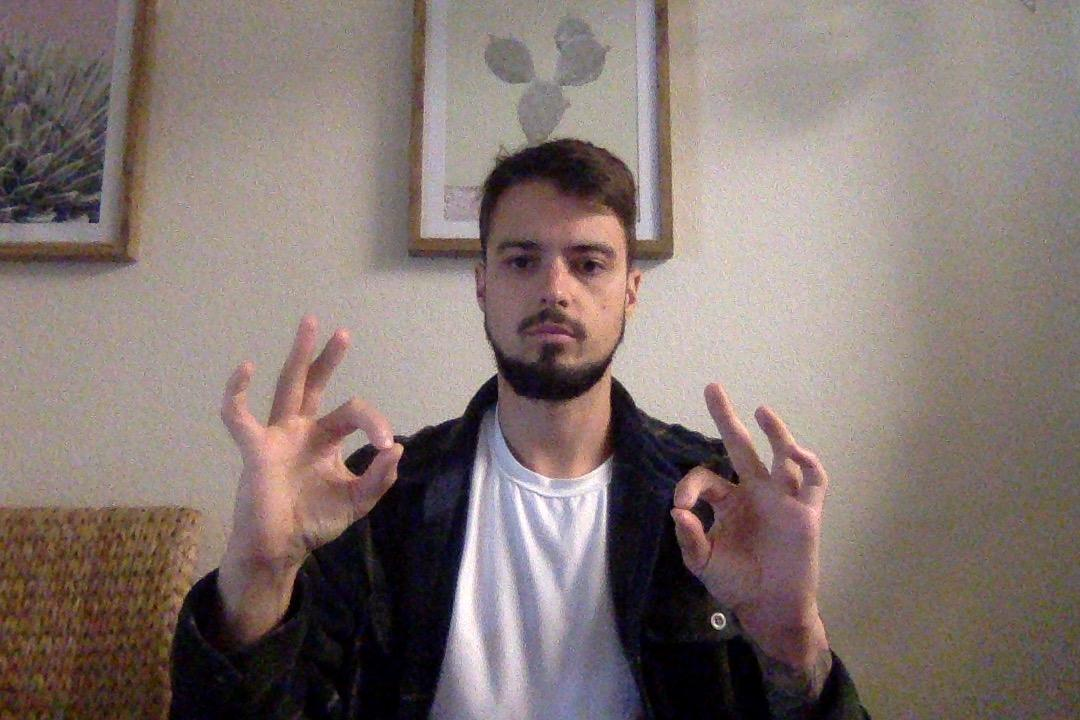Okay: (660, 384, 839, 676), (212, 322, 407, 583)
